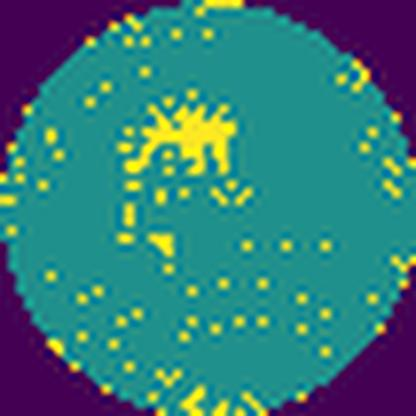Loc: (122, 100, 238, 177)
